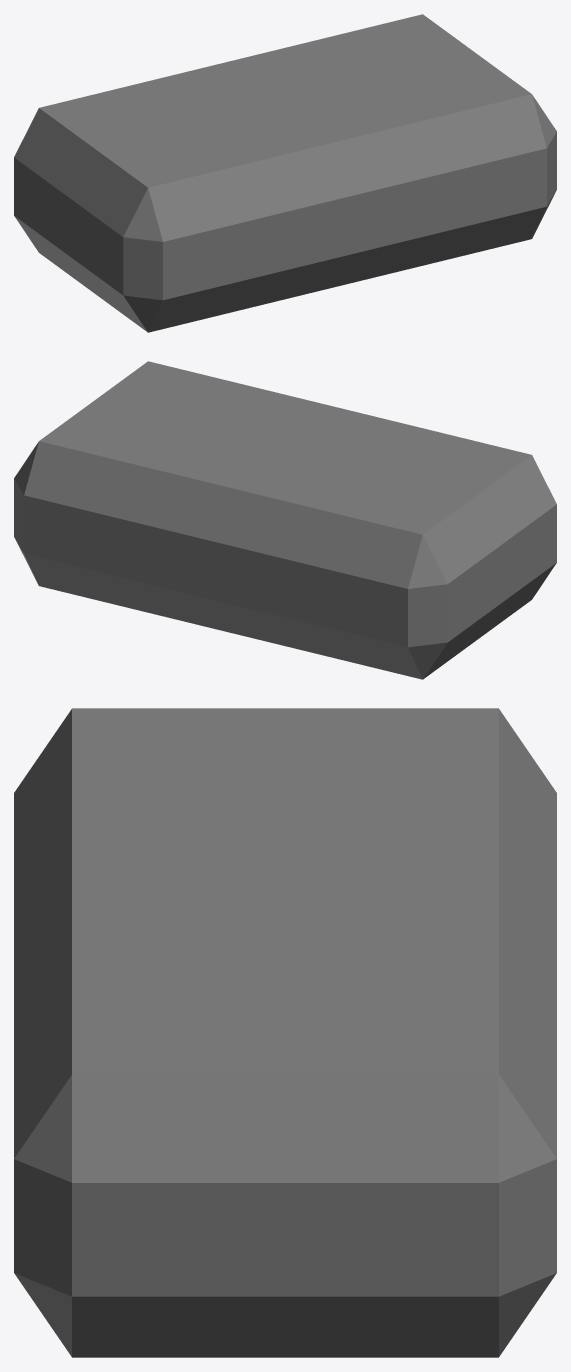
The model's file is PavingStone.fbx.
3 views of the same model, one above another, from view 1: azimuth 30°, elevation 25°; view 2: azimuth 150°, elevation 25°; view 3: azimuth 270°, elevation 25° (orthographic). The views are drawn at different scales.
Parts seen in each view (by area): view 1: PavingStone; view 2: PavingStone; view 3: PavingStone.
Boxes of the visible parts, x1,y1,x2,y2 form: PavingStone: (14, 14, 556, 332); PavingStone: (14, 361, 556, 679); PavingStone: (14, 708, 556, 1357).
Bounding box in the file's own units: 78.93 × 25.2 × 43.79.
1 material, 1 textured.
